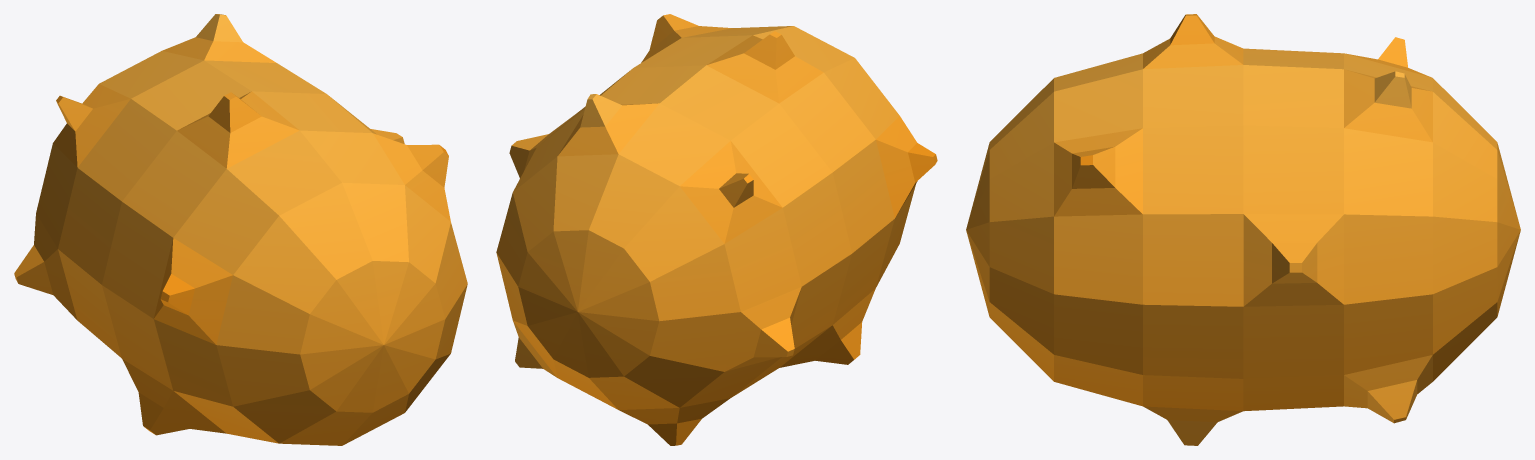
Rendered from Kiwano.fbx.
The picture shows the model from 3 angles, left to right: view 1: azimuth 30°, elevation 25°; view 2: azimuth 150°, elevation 25°; view 3: azimuth 270°, elevation 25°; orthographic projection. The views are drawn at different scales.
Parts seen in each view (by area): view 1: Kiwano; view 2: Kiwano; view 3: Kiwano.
Part boxes in pixels (x1,y1,x2,y2): Kiwano: (14, 14, 467, 445); Kiwano: (496, 14, 937, 445); Kiwano: (966, 14, 1520, 445).
Bounding box in the file's own units: 18.95 × 19.6 × 25.61.
